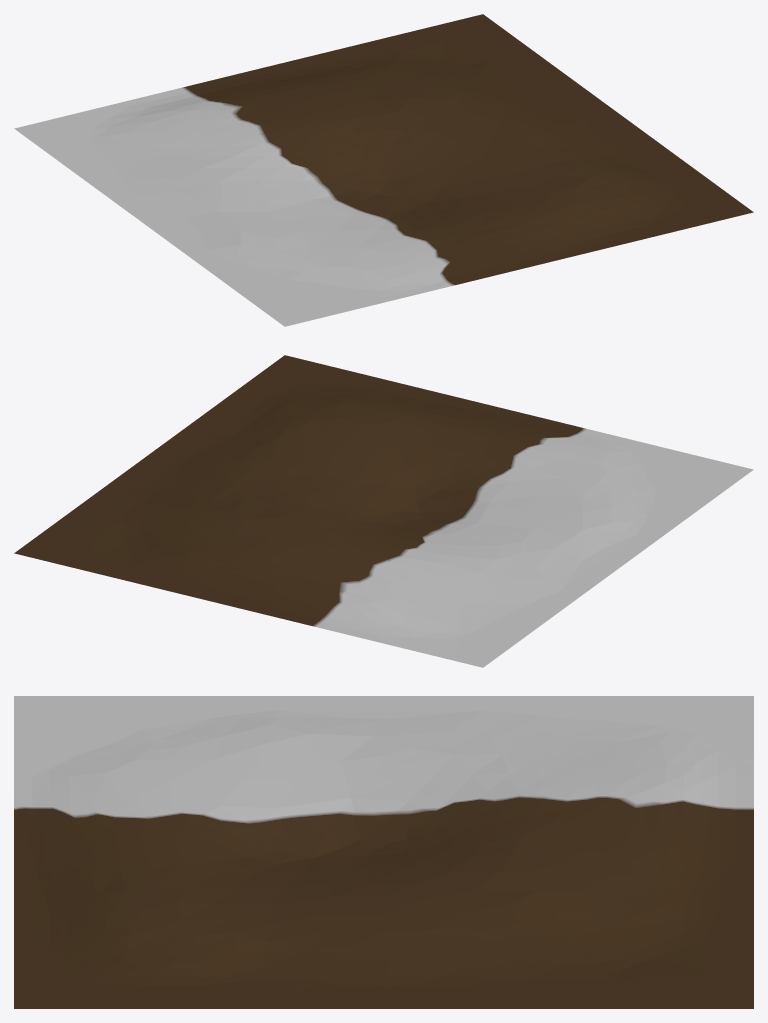
Rendered from Terrain_08.fbx.
3 renders of one model, top to bottom at view 1: azimuth 30°, elevation 25°; view 2: azimuth 150°, elevation 25°; view 3: azimuth 270°, elevation 25°, orthographic. The views are drawn at different scales.
Visible parts, largest first — view 1: Terrain_08; view 2: Terrain_08; view 3: Terrain_08.
Part boxes in pixels (left/top/right/bottom): Terrain_08: left=14, top=14, right=753, bottom=326; Terrain_08: left=14, top=355, right=753, bottom=667; Terrain_08: left=14, top=696, right=753, bottom=1008.
Size of the model in its own units: 128 by 5.27 by 128.
